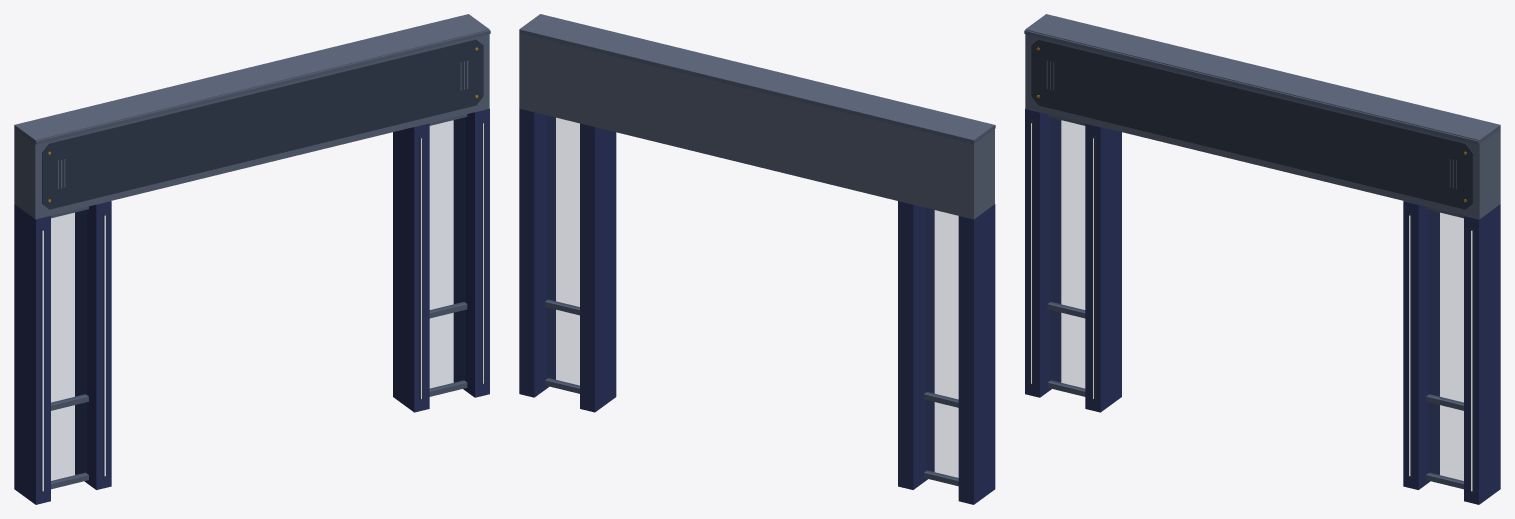
The model's file is mall_storefront.glb.
3 renders of one model, left to right at view 1: azimuth 30°, elevation 25°; view 2: azimuth 150°, elevation 25°; view 3: azimuth 330°, elevation 25°, orthographic.
Visible parts, largest first — view 1: jamb, light_reveal, sidelight, fascia, drip_edge, jamb_led; view 2: fascia, jamb, sidelight, drip_edge; view 3: jamb, light_reveal, sidelight, fascia, drip_edge, jamb_led.
Part boxes in pixels (x1,y1,x2,y2): jamb: (14,108,489,504); light_reveal: (41,39,484,493); sidelight: (51,118,464,481); fascia: (14,14,489,219); drip_edge: (14,30,490,489); jamb_led: (42,123,483,491); fascia: (519,14,994,219); jamb: (519,108,995,504); sidelight: (547,116,957,478); drip_edge: (519,30,995,486); jamb: (1025,108,1500,504); light_reveal: (1030,39,1473,493); sidelight: (1050,118,1463,481); fascia: (1025,14,1500,219); drip_edge: (1024,30,1500,489); jamb_led: (1031,123,1472,491).
Size of the model in its own units: 6 by 4.6 by 0.5.
